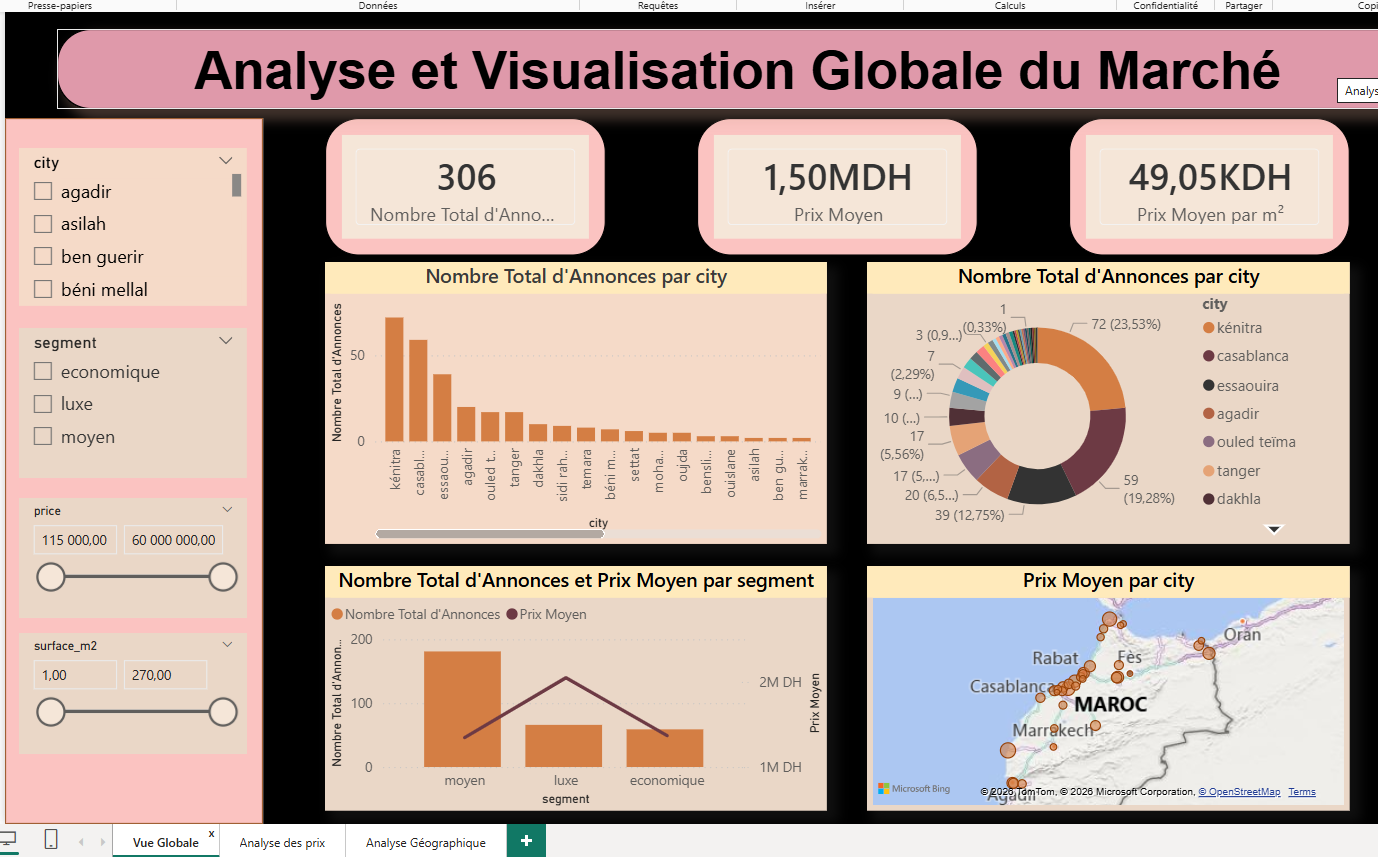

Layout of this report page (visuals, bound fields, positions):
{"tool":"powerbi","page":{"name":"Vue Globale","canvas":[1280,720],"ordinal":0},"visuals":[{"type":"cardVisual","fields":{"Data":["Mesures.Prix Moyen"]},"box":[613.6,94,249.2,122.4],"z":0},{"type":"shape","box":[0,94,228.8,626],"z":500,"group":"g1"},{"type":"cardVisual","fields":{"Data":["Mesures.Nombre Total d'Annonces","Mesures.Nombre Total d'Annonces"]},"box":[283.7,94,249.2,122.4],"z":1000},{"type":"cardVisual","fields":{"Data":["Mesures.Prix Moyen par m²"]},"box":[943.4,94,249.2,122.4],"z":2000},{"type":"columnChart","fields":{"Category":["bi_schema dim_localisation.city"],"Y":["Mesures.Nombre Total d'Annonces"]},"box":[283.7,221.7,445.1,250],"z":3000},{"type":"map","fields":{"Category":["bi_schema dim_localisation.city"],"Size":["Mesures.Prix Moyen"]},"box":[764.3,491.2,428.3,217.2],"z":4000},{"type":"donutChart","fields":{"Category":["bi_schema dim_localisation.city"],"Y":["Mesures.Nombre Total d'Annonces"]},"box":[764.3,221.7,428.3,250],"z":5000},{"type":"slicer","fields":{"Values":["bi_schema fact_annonce.price"]},"box":[12.8,430.6,202.3,106.1],"z":5000,"group":"g1"},{"type":"slicer","fields":{"Values":["bi_schema dim_caracteristiques.segment"]},"box":[12.8,280.4,202.3,133.4],"z":6000,"group":"g1"},{"type":"lineStackedColumnComboChart","fields":{"Category":["bi_schema dim_caracteristiques.segment"],"Y":["Mesures.Nombre Total d'Annonces"],"Y2":["Mesures.Prix Moyen"]},"box":[283.7,491.2,445.1,217.2],"z":6000},{"type":"textbox","title":"Analyse et Visualisation Globale du Marché","box":[46.1,15.1,1205,70.9],"z":7000},{"type":"slicer","fields":{"Values":["bi_schema dim_localisation.city"]},"box":[12.8,120.7,202.3,139.7],"z":7000,"group":"g1"},{"type":"group","id":"g1","title":"Groupe 1","box":[0,94,228.8,626],"z":8000},{"type":"slicer","fields":{"Values":["bi_schema dim_caracteristiques.surface_m2"]},"box":[12.8,550.3,202.3,107.1],"z":8000,"group":"g1"}]}

Visuals, with their boxes on the page's 1280x720 design canvas (x1, y1, x2, y2). These are canvas units, not pixel positions in the 1378x857 screenshot, which may show the page scaled, cropped or inside an application window:
cardVisual - Mesures.Prix Moyen: left=614, top=94, right=863, bottom=216
shape: left=0, top=94, right=229, bottom=720
cardVisual - Mesures.Nombre Total d'Annonces x Mesures.Nombre Total d'Annonces: left=284, top=94, right=533, bottom=216
cardVisual - Mesures.Prix Moyen par m²: left=943, top=94, right=1193, bottom=216
columnChart - bi_schema dim_localisation.city x Mesures.Nombre Total d'Annonces: left=284, top=222, right=729, bottom=472
map - bi_schema dim_localisation.city x Mesures.Prix Moyen: left=764, top=491, right=1193, bottom=708
donutChart - bi_schema dim_localisation.city x Mesures.Nombre Total d'Annonces: left=764, top=222, right=1193, bottom=472
slicer - bi_schema fact_annonce.price: left=13, top=431, right=215, bottom=537
slicer - bi_schema dim_caracteristiques.segment: left=13, top=280, right=215, bottom=414
lineStackedColumnComboChart - bi_schema dim_caracteristiques.segment x Mesures.Nombre Total d'Annonces: left=284, top=491, right=729, bottom=708
"Analyse et Visualisation Globale du Marché" textbox: left=46, top=15, right=1251, bottom=86
slicer - bi_schema dim_localisation.city: left=13, top=121, right=215, bottom=260
"Groupe 1" group: left=0, top=94, right=229, bottom=720
slicer - bi_schema dim_caracteristiques.surface_m2: left=13, top=550, right=215, bottom=657
